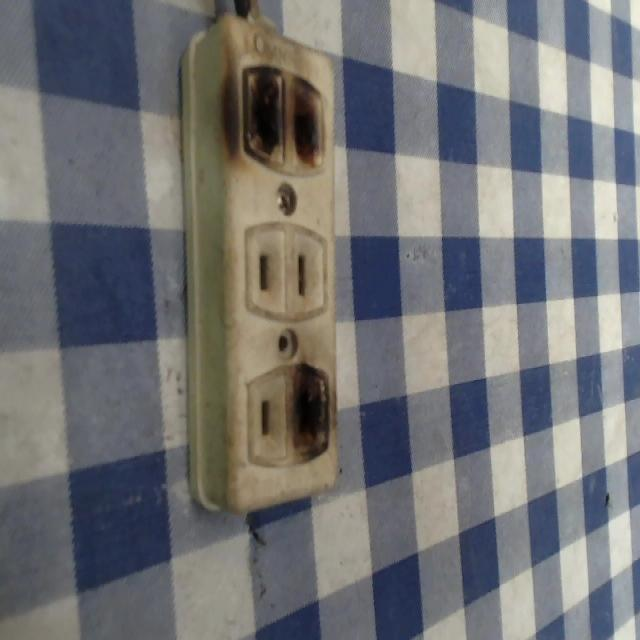-: (213, 50, 333, 174), (282, 362, 336, 467)
